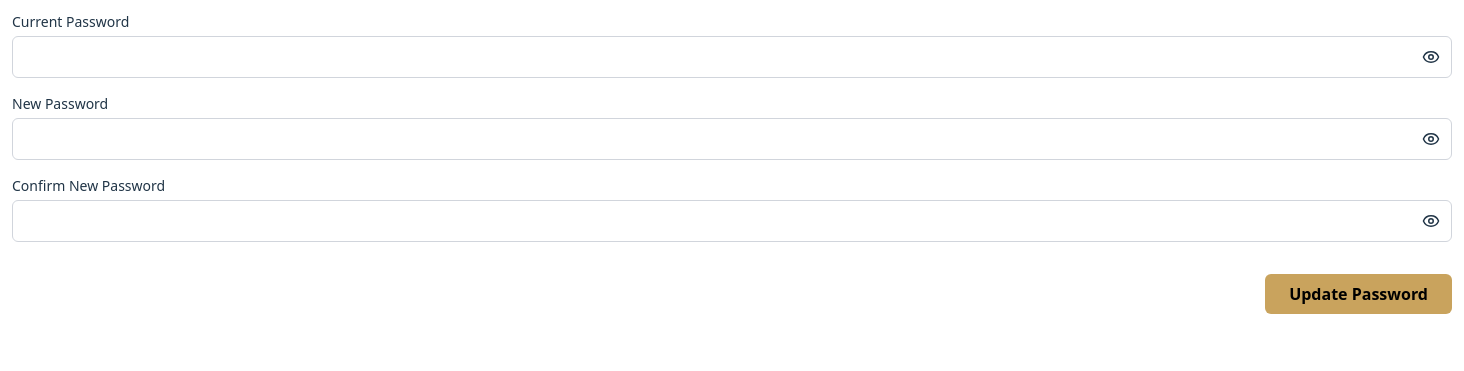
Test: ChangePasswordModal › shows validation error if passwords do not match
Step 1. Type "newpassword123" into the password field labelled "New Password" → (732, 139), box [12,118,1452,160]
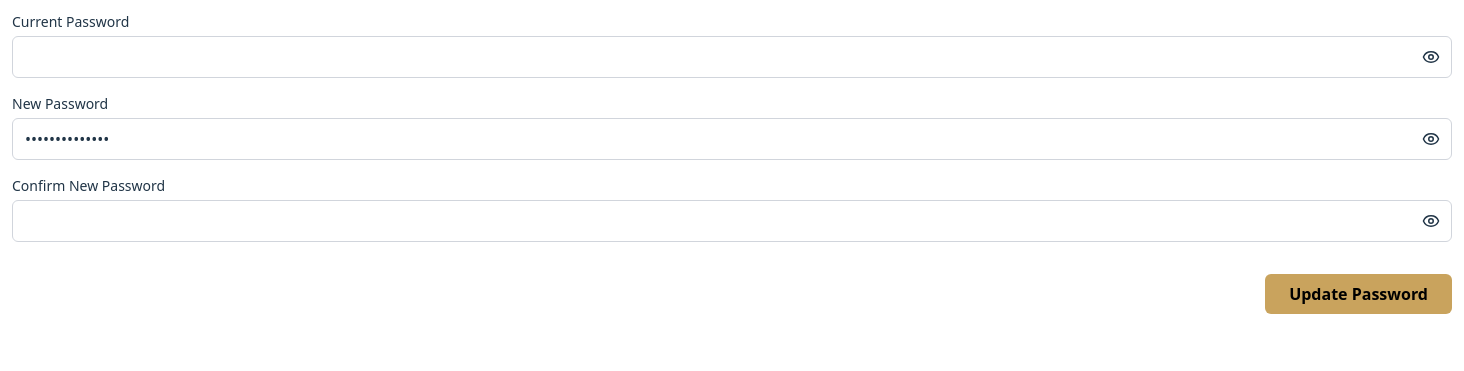
Step 2. Type "mismatch" into the password field labelled "Confirm New Password" → (732, 221), box [12,200,1452,242]
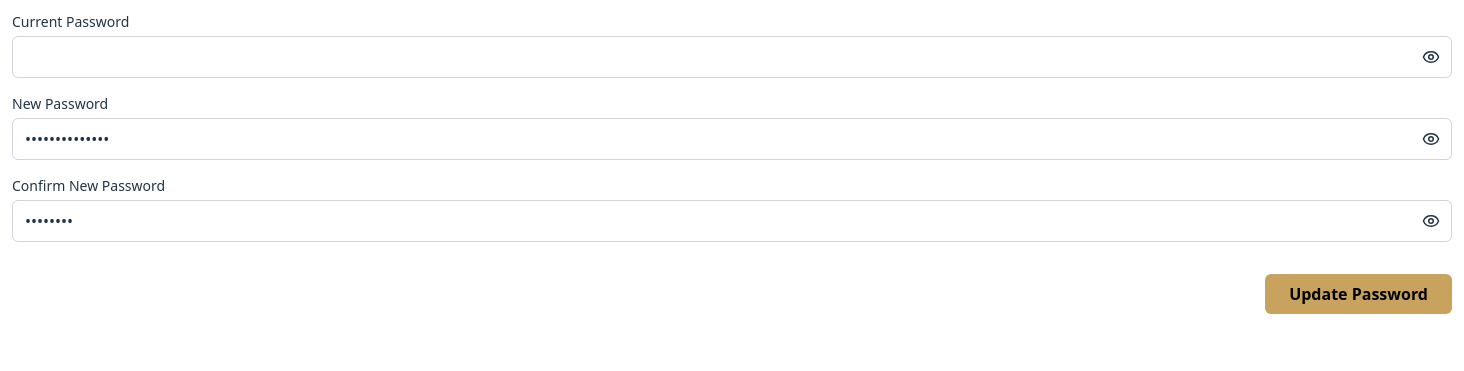
Step 3. Click the button "Update Password" → (1359, 294), box [1265,274,1452,314]
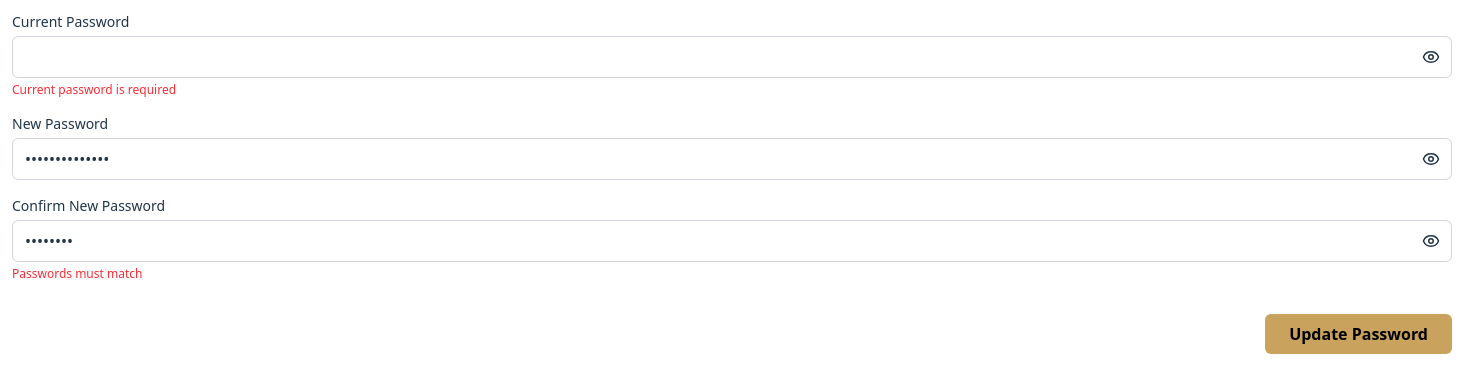
Expected: the text "Passwords must match" is shown, [12,265,142,282]
